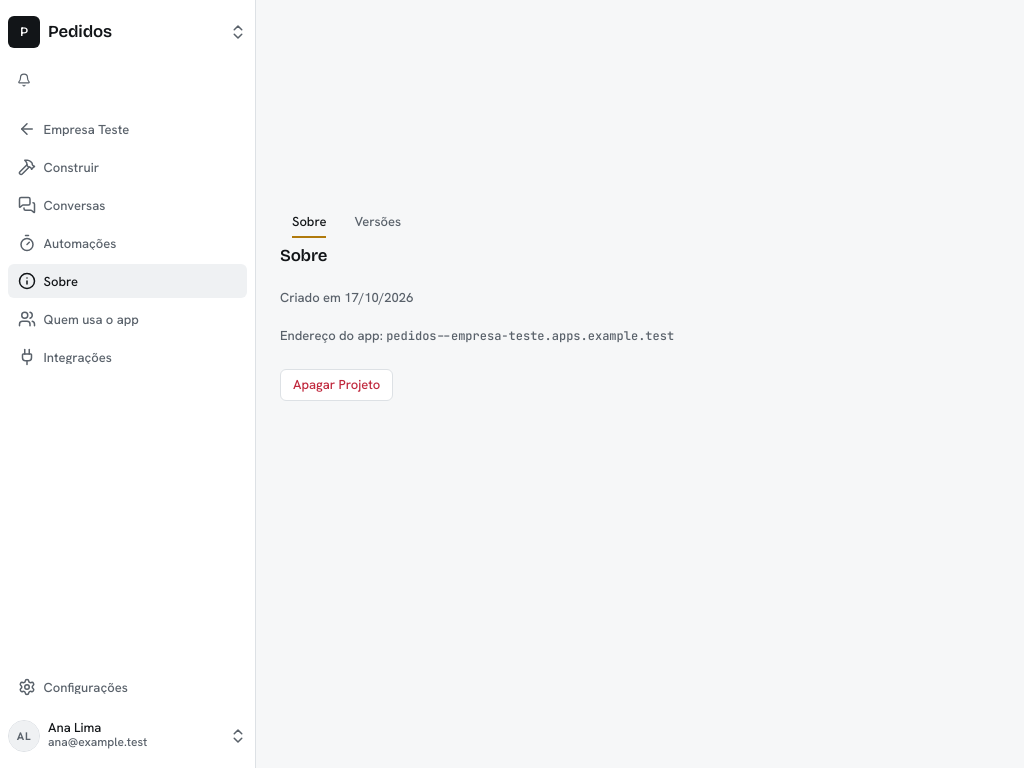
204: leva o nome, vai à lista e diz "Projeto apagado."
(page scrolled)
Click the button "Apagar Projeto": click(337, 385) x1=280 y1=369 x2=393 y2=401
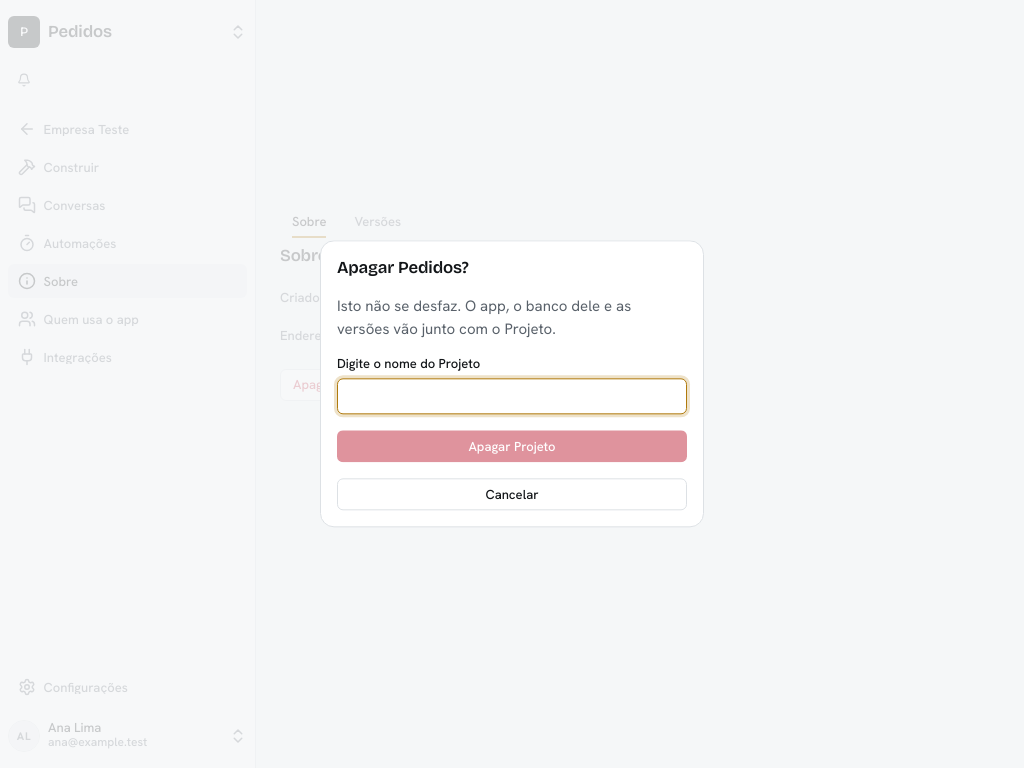
Result: the dialog is shown at x1=320 y1=240 x2=704 y2=528
In the field labelled "Digite o nome do Projeto": (512, 397) x1=337 y1=379 x2=687 y2=415, type "Pedidos"
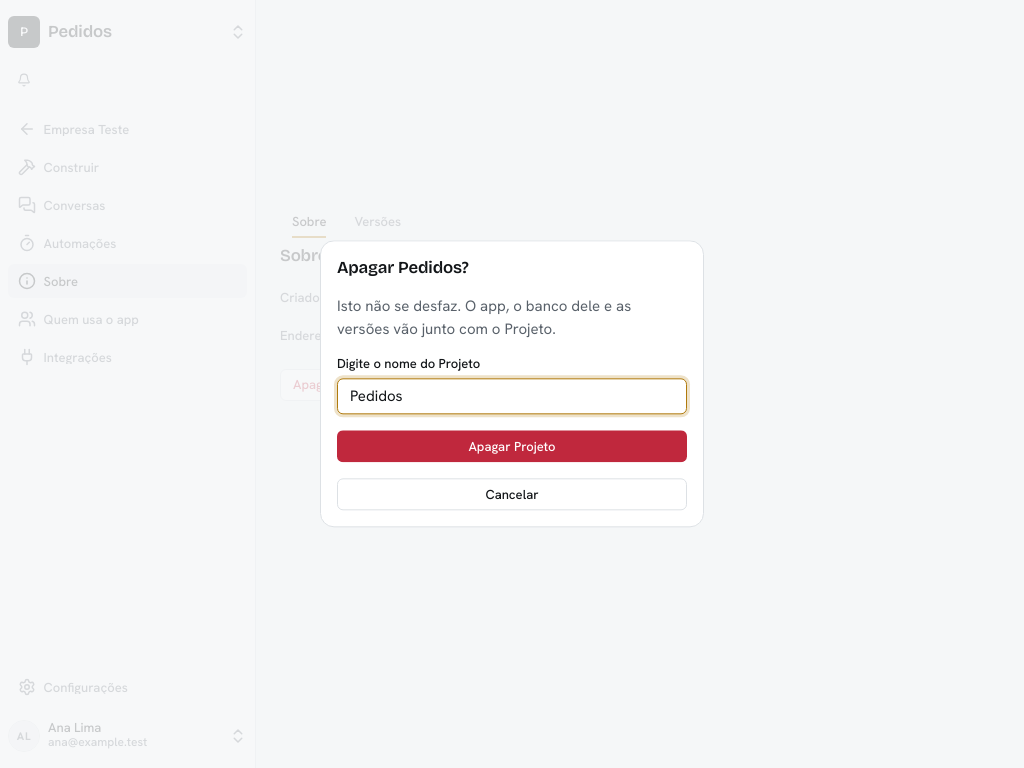
Click the button "Apagar Projeto": click(512, 447) x1=337 y1=431 x2=687 y2=463
(page scrolled)
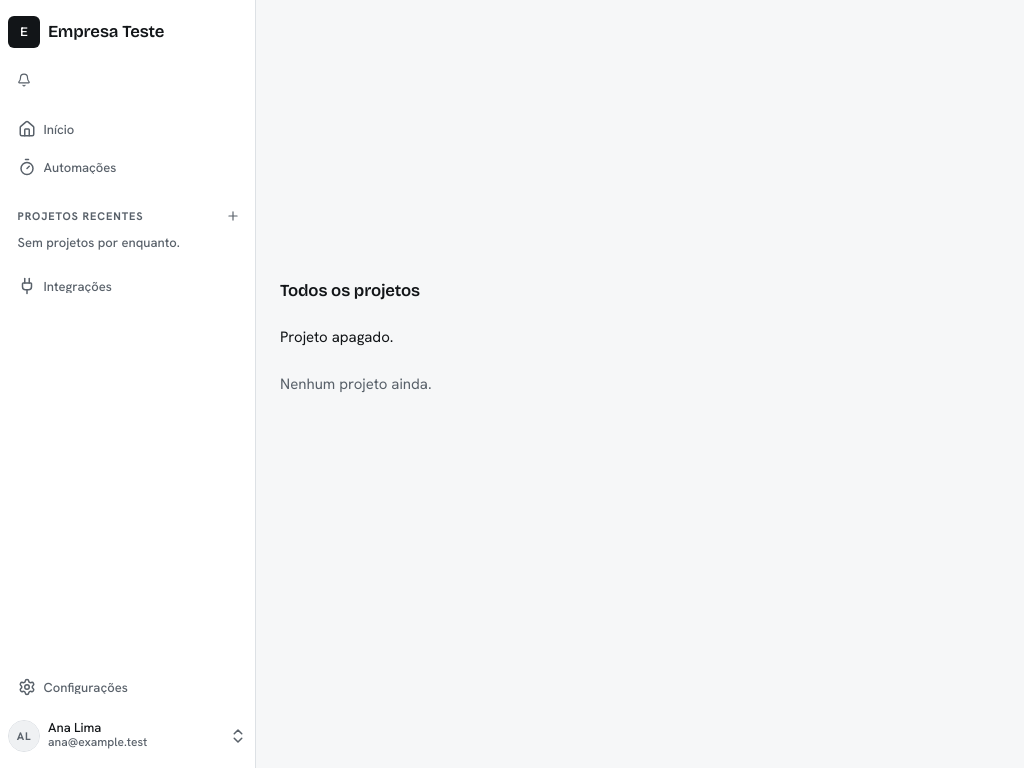
Result: the text "Projeto apagado." is shown at x1=280 y1=327 x2=393 y2=347
Result: the text "Nenhum projeto ainda." is shown at x1=280 y1=374 x2=432 y2=394
Result: the dialog is gone
